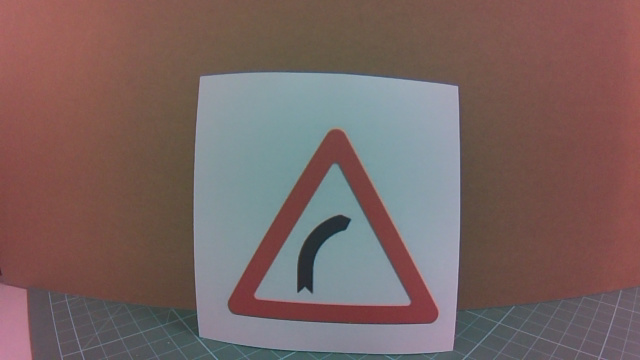right: (226, 161, 426, 337)
